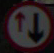Two way: (11, 6, 46, 41)
